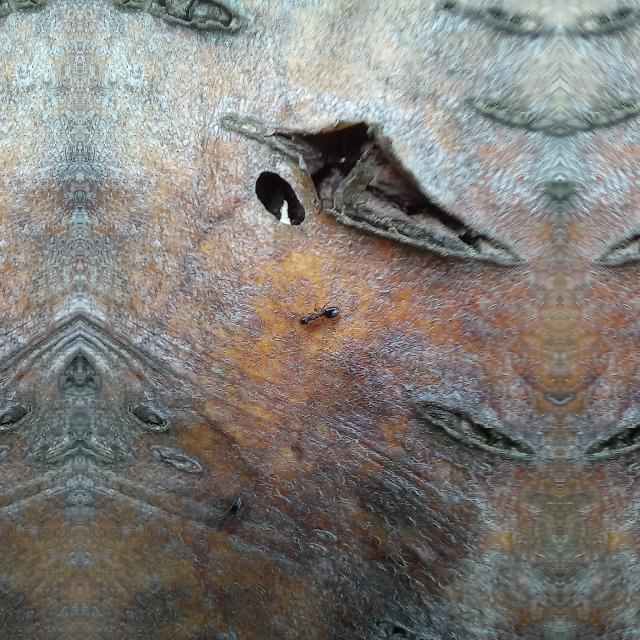Dolichoderus: (292, 291, 344, 329)
